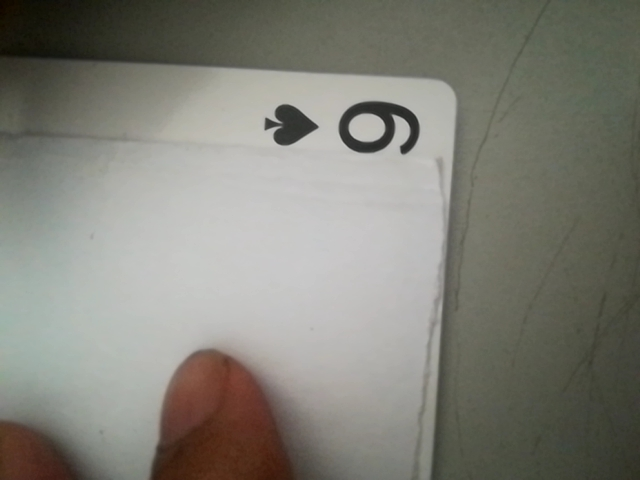ht 6: (243, 88, 439, 164)
